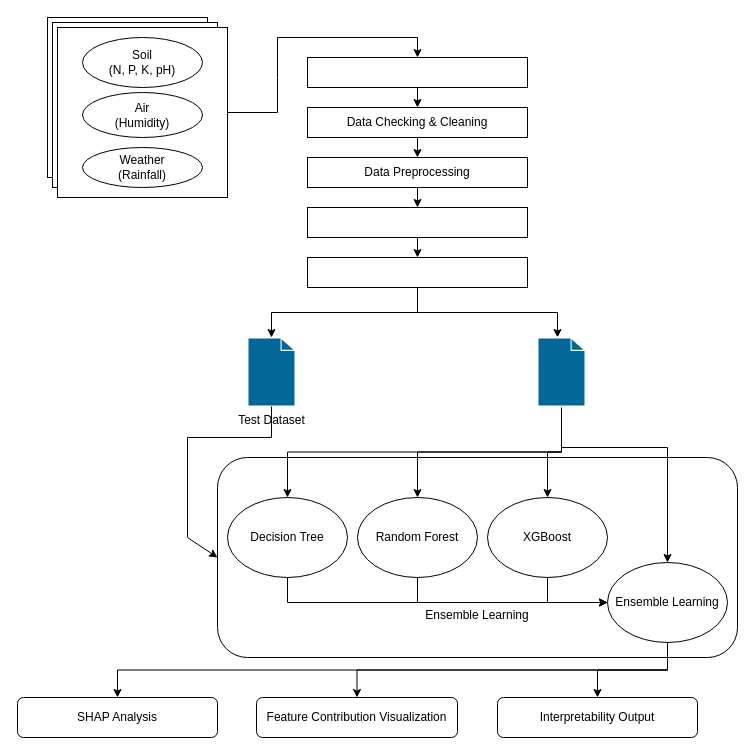
Some shapes in this 755 by 755 pixel diagram are drawn without their labels. Here are the shapes that lost their labels. From the top down, the centre of each, then its label:
At [417,72]: "Crop and IoT Data Input".
At [417,222]: "Feature Engineering".
At [417,272]: "Data Splitting for Training and Resting".
At [561,371]: "Training Dataset".
